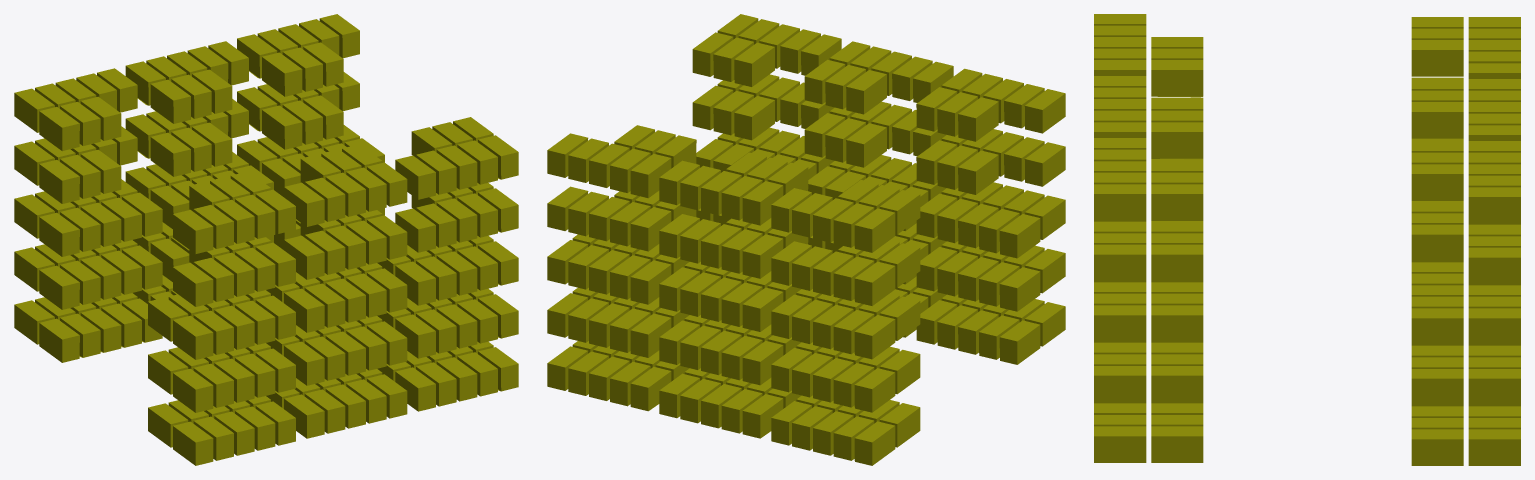
File: pM_batteries_low.FBX
The picture shows the model from 3 angles, left to right: view 1: azimuth 30°, elevation 25°; view 2: azimuth 150°, elevation 25°; view 3: azimuth 270°, elevation 25°; orthographic projection. The views are drawn at different scales.
Visible parts, largest first — view 1: baterije; view 2: baterije; view 3: baterije.
Part boxes in pixels (bbox=[...]): baterije: bbox=[14, 14, 518, 465]; baterije: bbox=[547, 14, 1065, 465]; baterije: bbox=[1094, 14, 1520, 465].
Size of the model in its own units: 3.89 by 2.67 by 3.84.
